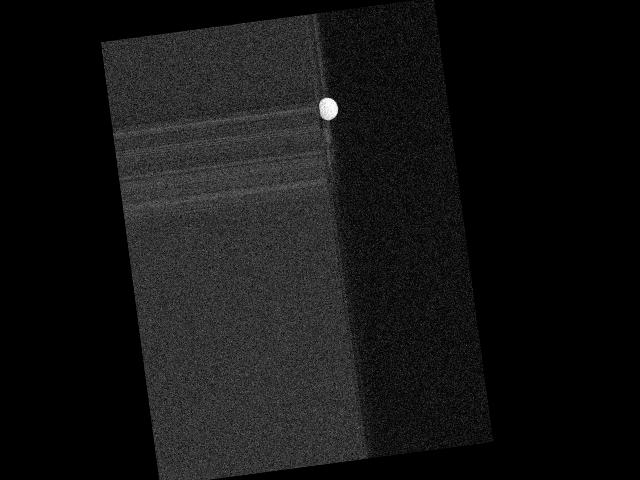egg: (318, 96, 339, 121)
